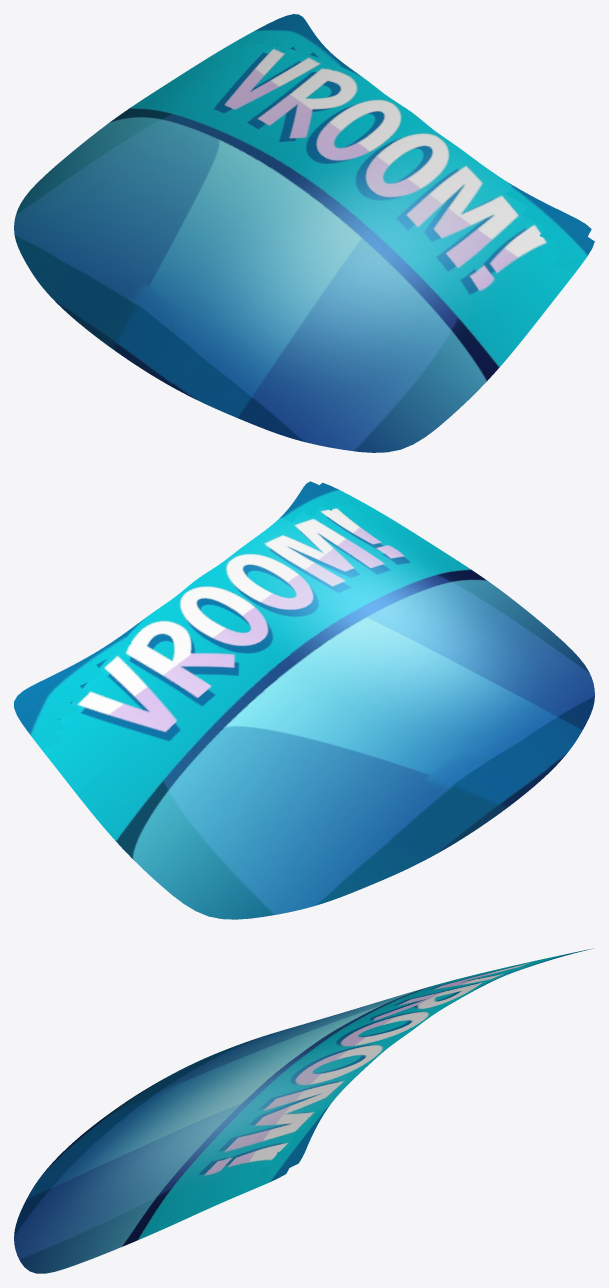
Rendered from parabrisas.obj.
The picture shows the model from 3 angles, top to bottom: view 1: azimuth 30°, elevation 25°; view 2: azimuth 150°, elevation 25°; view 3: azimuth 330°, elevation 25°; orthographic projection.
Visible parts, largest first — view 1: PARARBRISAS_Material.037; view 2: PARARBRISAS_Material.037; view 3: PARARBRISAS_Material.037.
Part boxes in pixels (<box>): PARARBRISAS_Material.037: <box>14,14,594,452</box>; PARARBRISAS_Material.037: <box>14,481,594,919</box>; PARARBRISAS_Material.037: <box>14,948,593,1273</box>.
Bounding box in the file's own units: 1.46 × 0.6679 × 2.78.
